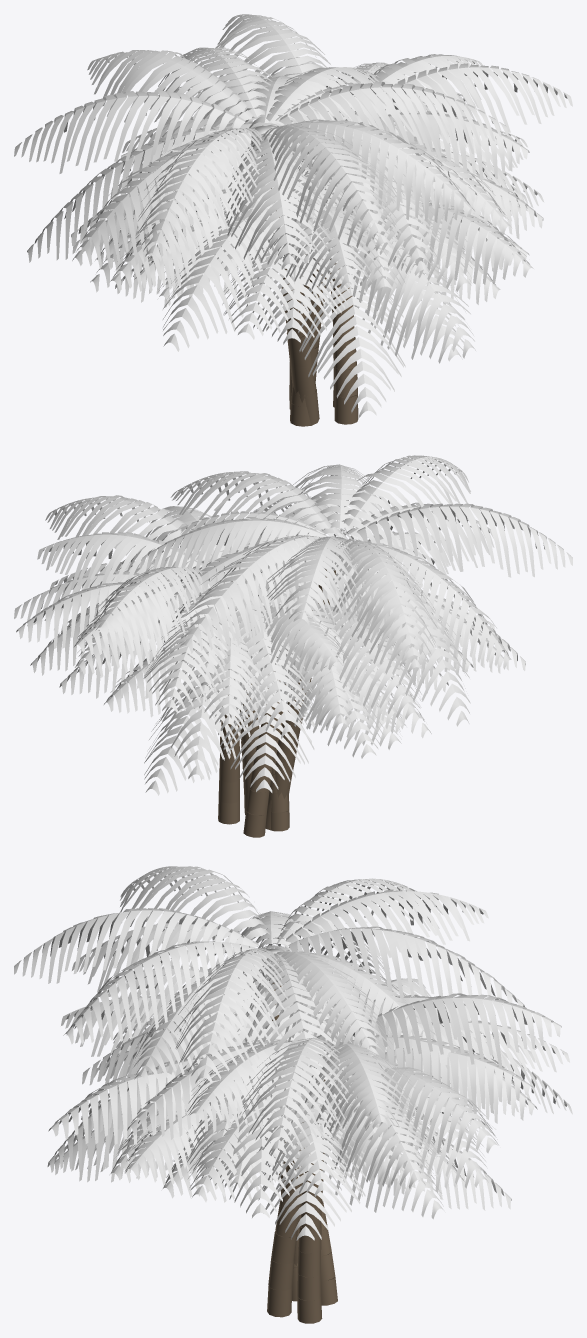
File: m_areca_900.fbx
The picture shows the model from 3 angles, top to bottom: view 1: azimuth 30°, elevation 25°; view 2: azimuth 150°, elevation 25°; view 3: azimuth 270°, elevation 25°; orthographic projection. The views are drawn at different scales.
Visible parts, largest first — view 1: m_areca_900; view 2: m_areca_900; view 3: m_areca_900.
Part boxes in pixels (left/top/right/bottom): m_areca_900: left=14, top=14, right=572, bottom=426; m_areca_900: left=14, top=455, right=572, bottom=837; m_areca_900: left=14, top=866, right=572, bottom=1323.
Size of the model in its own units: 1643 by 1114 by 1573.
